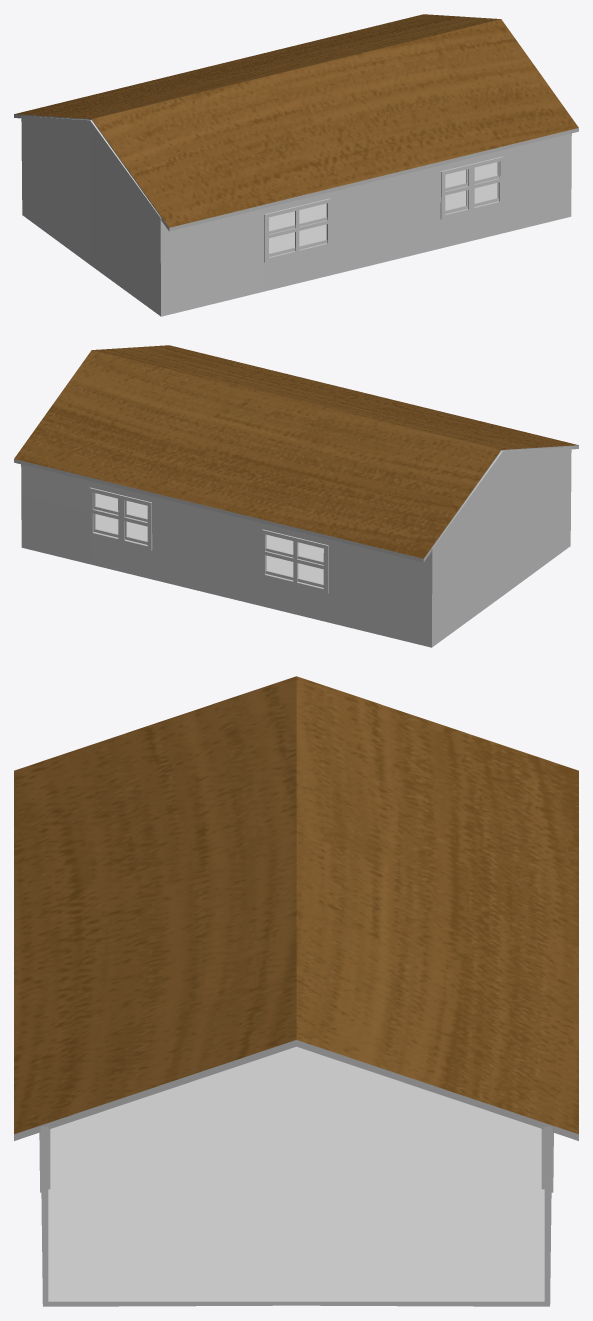
Rendered from restaurante_fachadAAa.fbx.
3 renders of one model, top to bottom at view 1: azimuth 30°, elevation 25°; view 2: azimuth 150°, elevation 25°; view 3: azimuth 270°, elevation 25°, orthographic. The views are drawn at different scales.
Visible parts, largest first — view 1: TECHO; view 2: TECHO; view 3: TECHO.
Boxes of the visible parts, x1,y1,x2,y2 form: TECHO: (14, 14, 578, 316); TECHO: (14, 345, 578, 647); TECHO: (14, 676, 578, 1306).
Size of the model in its own units: 14472 by 4937 by 9461.
